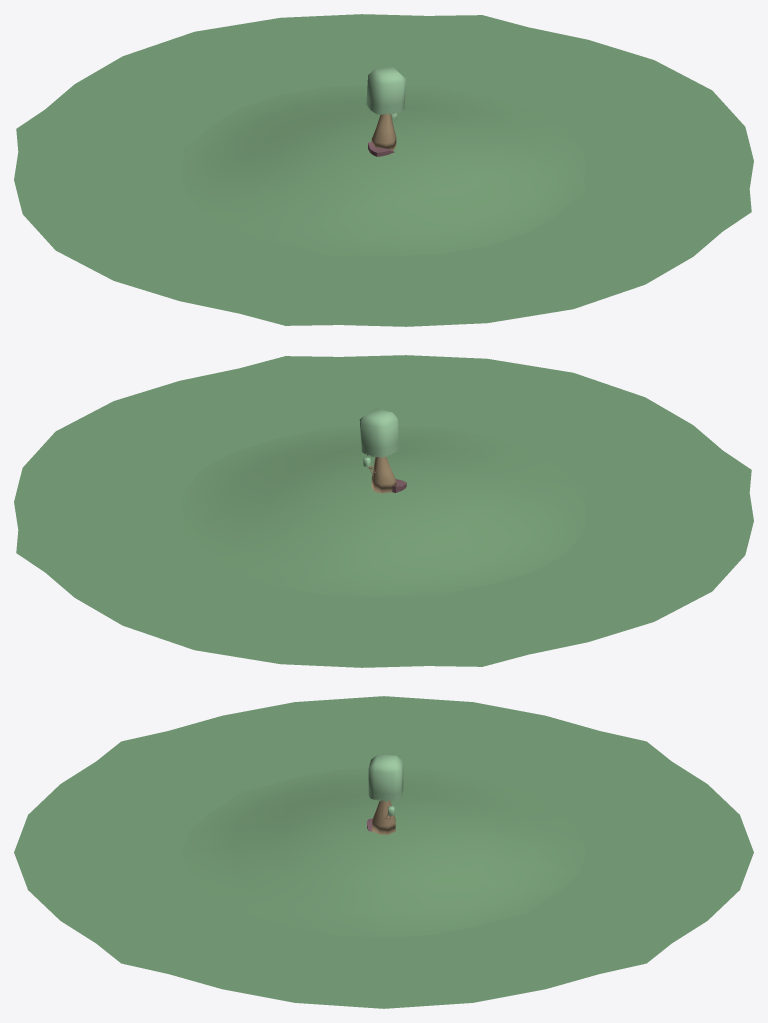
The model's file is testing tree house.fbx.
3 views of the same model, one above another, from view 1: azimuth 30°, elevation 25°; view 2: azimuth 150°, elevation 25°; view 3: azimuth 270°, elevation 25° (orthographic). The views are drawn at different scales.
Parts seen in each view (by area): view 1: Plane, Cube.002, Cube; view 2: Plane, Cube.002, Cube; view 3: Plane, Cube.002, Cube.
Part boxes in pixels (bbox=[...]): Plane: bbox=[14, 14, 753, 326]; Cube.002: bbox=[366, 66, 406, 114]; Cube: bbox=[371, 112, 396, 150]; Plane: bbox=[14, 355, 753, 667]; Cube.002: bbox=[359, 408, 399, 457]; Cube: bbox=[371, 456, 396, 493]; Plane: bbox=[14, 696, 753, 1008]; Cube.002: bbox=[368, 754, 403, 801]; Cube: bbox=[372, 800, 395, 834].
Bounding box in the file's own units: 143558 × 20435 × 143558.
